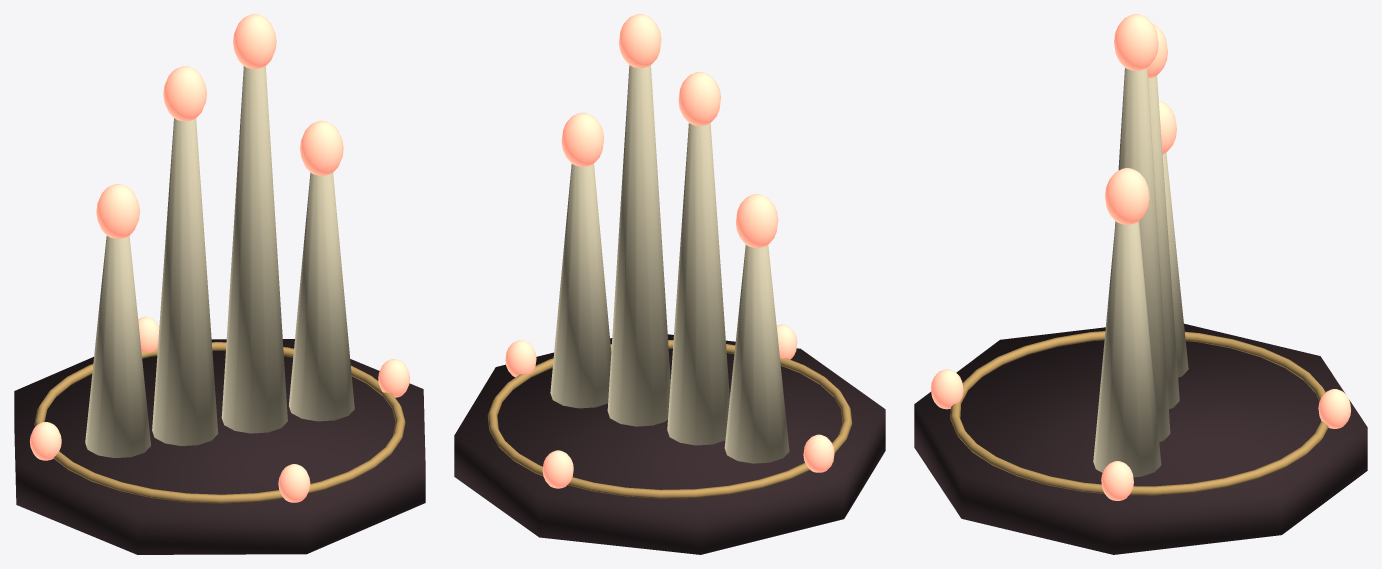
3 views of the same model, side by side, from view 1: azimuth 30°, elevation 25°; view 2: azimuth 150°, elevation 25°; view 3: azimuth 270°, elevation 25° (orthographic). The views are drawn at different scales.
Visible parts, largest first — view 1: Hexagonal plinth, Sagrada spire.002, Sagrada spire.001, Sagrada spire.003, Sagrada spire, Inlaid rim, Mosaic crown.003, Mosaic crown, Mosaic crown.001, Mosaic crown.002, Garden inlay.003, Garden inlay.002 (+2 smaller); view 2: Hexagonal plinth, Sagrada spire.002, Sagrada spire.001, Sagrada spire.003, Sagrada spire, Inlaid rim, Mosaic crown, Mosaic crown.002, Mosaic crown.001, Mosaic crown.003, Garden inlay.001, Garden inlay.002 (+2 smaller); view 3: Hexagonal plinth, Sagrada spire.003, Inlaid rim, Sagrada spire.002, Sagrada spire.001, Mosaic crown.002, Mosaic crown.003, Sagrada spire, Garden inlay, Garden inlay.001, Garden inlay.003, Mosaic crown (+1 smaller).
Boxes of the visible parts, x1,y1,x2,y2 form: Hexagonal plinth: (14, 339, 425, 554); Sagrada spire.002: (221, 66, 287, 433); Sagrada spire.001: (152, 118, 218, 445); Sagrada spire.003: (289, 172, 354, 421); Sagrada spire: (85, 236, 150, 458); Inlaid rim: (34, 342, 405, 503); Mosaic crown.003: (300, 120, 343, 175); Mosaic crown: (96, 184, 139, 238); Mosaic crown.001: (163, 66, 206, 121); Mosaic crown.002: (233, 14, 276, 68); Garden inlay.003: (278, 464, 310, 502); Garden inlay.002: (29, 422, 61, 460); Hexagonal plinth: (454, 334, 885, 554); Sagrada spire.002: (607, 65, 670, 426); Sagrada spire.001: (667, 123, 729, 445); Sagrada spire.003: (550, 164, 611, 408); Sagrada spire: (724, 245, 789, 463); Inlaid rim: (487, 340, 852, 498); Mosaic crown: (736, 194, 778, 247); Mosaic crown.002: (619, 14, 661, 68); Mosaic crown.001: (678, 72, 720, 125); Mosaic crown.003: (561, 112, 603, 166); Garden inlay.001: (542, 450, 573, 488); Garden inlay.002: (803, 434, 834, 472); Hexagonal plinth: (914, 323, 1367, 554); Sagrada spire.003: (1093, 221, 1161, 477); Inlaid rim: (950, 331, 1328, 495); Sagrada spire.002: (1115, 68, 1170, 441); Sagrada spire.001: (1148, 76, 1179, 409); Mosaic crown.002: (1114, 14, 1158, 70); Mosaic crown.003: (1105, 168, 1149, 224); Sagrada spire: (1162, 153, 1188, 377); Garden inlay: (1101, 461, 1133, 500); Garden inlay.001: (1318, 389, 1350, 428); Garden inlay.003: (930, 369, 963, 409); Mosaic crown: (1158, 100, 1176, 154).
Size of the model in its own units: 1.51 by 1.69 by 1.51.
